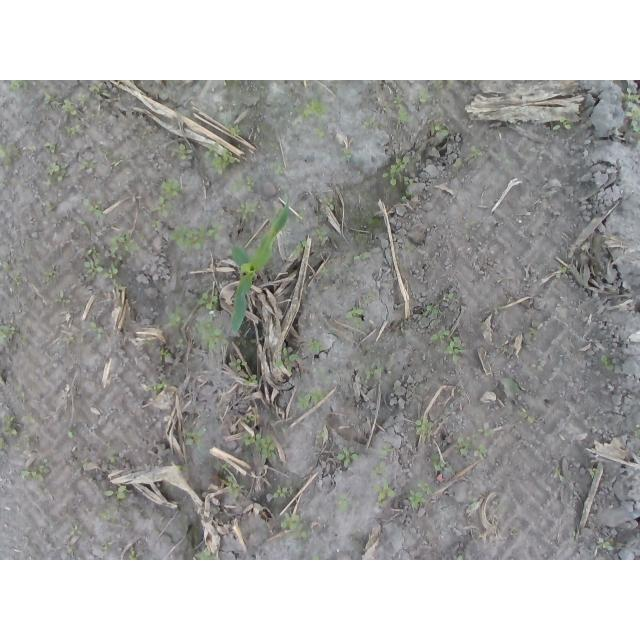Maize: (230, 192, 292, 337)
Weeds: (170, 221, 223, 252), (196, 315, 228, 349), (205, 141, 235, 175), (382, 155, 414, 186), (242, 433, 278, 460), (294, 97, 332, 120), (108, 232, 138, 261), (621, 88, 640, 132), (281, 512, 308, 539), (83, 244, 104, 276), (408, 483, 432, 510), (274, 347, 298, 373), (42, 162, 66, 186), (297, 389, 329, 407), (445, 337, 467, 363), (103, 263, 125, 289), (20, 460, 48, 480), (374, 485, 398, 508), (221, 474, 243, 498), (182, 427, 206, 449), (160, 176, 181, 200), (498, 378, 523, 398), (0, 142, 20, 167), (345, 305, 364, 331), (335, 492, 357, 514), (394, 96, 411, 124), (413, 418, 434, 440), (237, 200, 259, 220), (230, 177, 254, 195), (338, 448, 359, 468), (153, 196, 172, 218), (82, 199, 104, 217), (1, 415, 19, 437), (89, 82, 112, 99), (432, 453, 451, 473), (168, 307, 188, 326), (364, 363, 385, 381), (145, 380, 167, 397), (104, 484, 127, 500), (198, 294, 219, 311), (173, 144, 195, 160), (106, 150, 127, 166), (273, 484, 295, 499), (370, 461, 387, 479), (307, 337, 323, 356), (552, 116, 573, 130), (61, 98, 79, 114), (597, 537, 616, 552), (430, 329, 450, 343), (89, 320, 103, 340), (457, 437, 471, 456), (42, 93, 62, 106), (600, 354, 616, 370), (55, 288, 71, 304), (0, 323, 14, 341), (431, 124, 450, 137), (193, 552, 220, 561), (77, 219, 92, 235), (417, 89, 433, 104), (517, 411, 535, 424), (269, 209, 284, 224), (242, 373, 258, 387), (224, 123, 240, 137), (473, 445, 487, 460), (476, 423, 491, 437), (340, 147, 354, 162), (79, 159, 98, 170), (229, 359, 248, 370), (312, 124, 325, 140), (431, 80, 454, 89), (294, 241, 306, 258), (364, 116, 380, 128), (8, 80, 29, 89), (378, 445, 395, 456), (312, 229, 329, 240), (424, 305, 441, 316), (468, 146, 482, 159), (353, 252, 372, 261), (323, 197, 335, 211), (42, 270, 54, 284), (160, 350, 174, 362), (316, 368, 328, 382), (101, 509, 116, 520), (524, 330, 538, 341), (44, 141, 56, 153), (174, 464, 190, 473), (553, 468, 564, 481), (70, 525, 83, 536), (531, 363, 546, 372), (65, 125, 80, 134), (402, 191, 414, 202), (557, 267, 568, 278), (442, 293, 454, 303), (296, 210, 305, 223), (78, 92, 87, 105), (501, 150, 510, 162), (175, 339, 185, 349), (587, 468, 598, 477), (101, 541, 112, 550), (322, 265, 330, 277), (469, 496, 477, 508), (633, 423, 640, 436), (3, 262, 13, 271), (13, 275, 22, 285), (69, 427, 78, 437), (64, 334, 74, 343), (46, 201, 55, 211), (129, 550, 138, 560), (81, 457, 89, 468), (571, 529, 577, 543), (364, 292, 371, 304), (276, 166, 285, 175), (108, 454, 117, 463), (494, 306, 503, 315), (316, 432, 326, 440), (453, 162, 463, 170), (13, 384, 21, 393), (221, 463, 232, 469), (465, 221, 476, 226), (357, 171, 364, 178), (457, 556, 463, 561), (313, 556, 320, 560)
